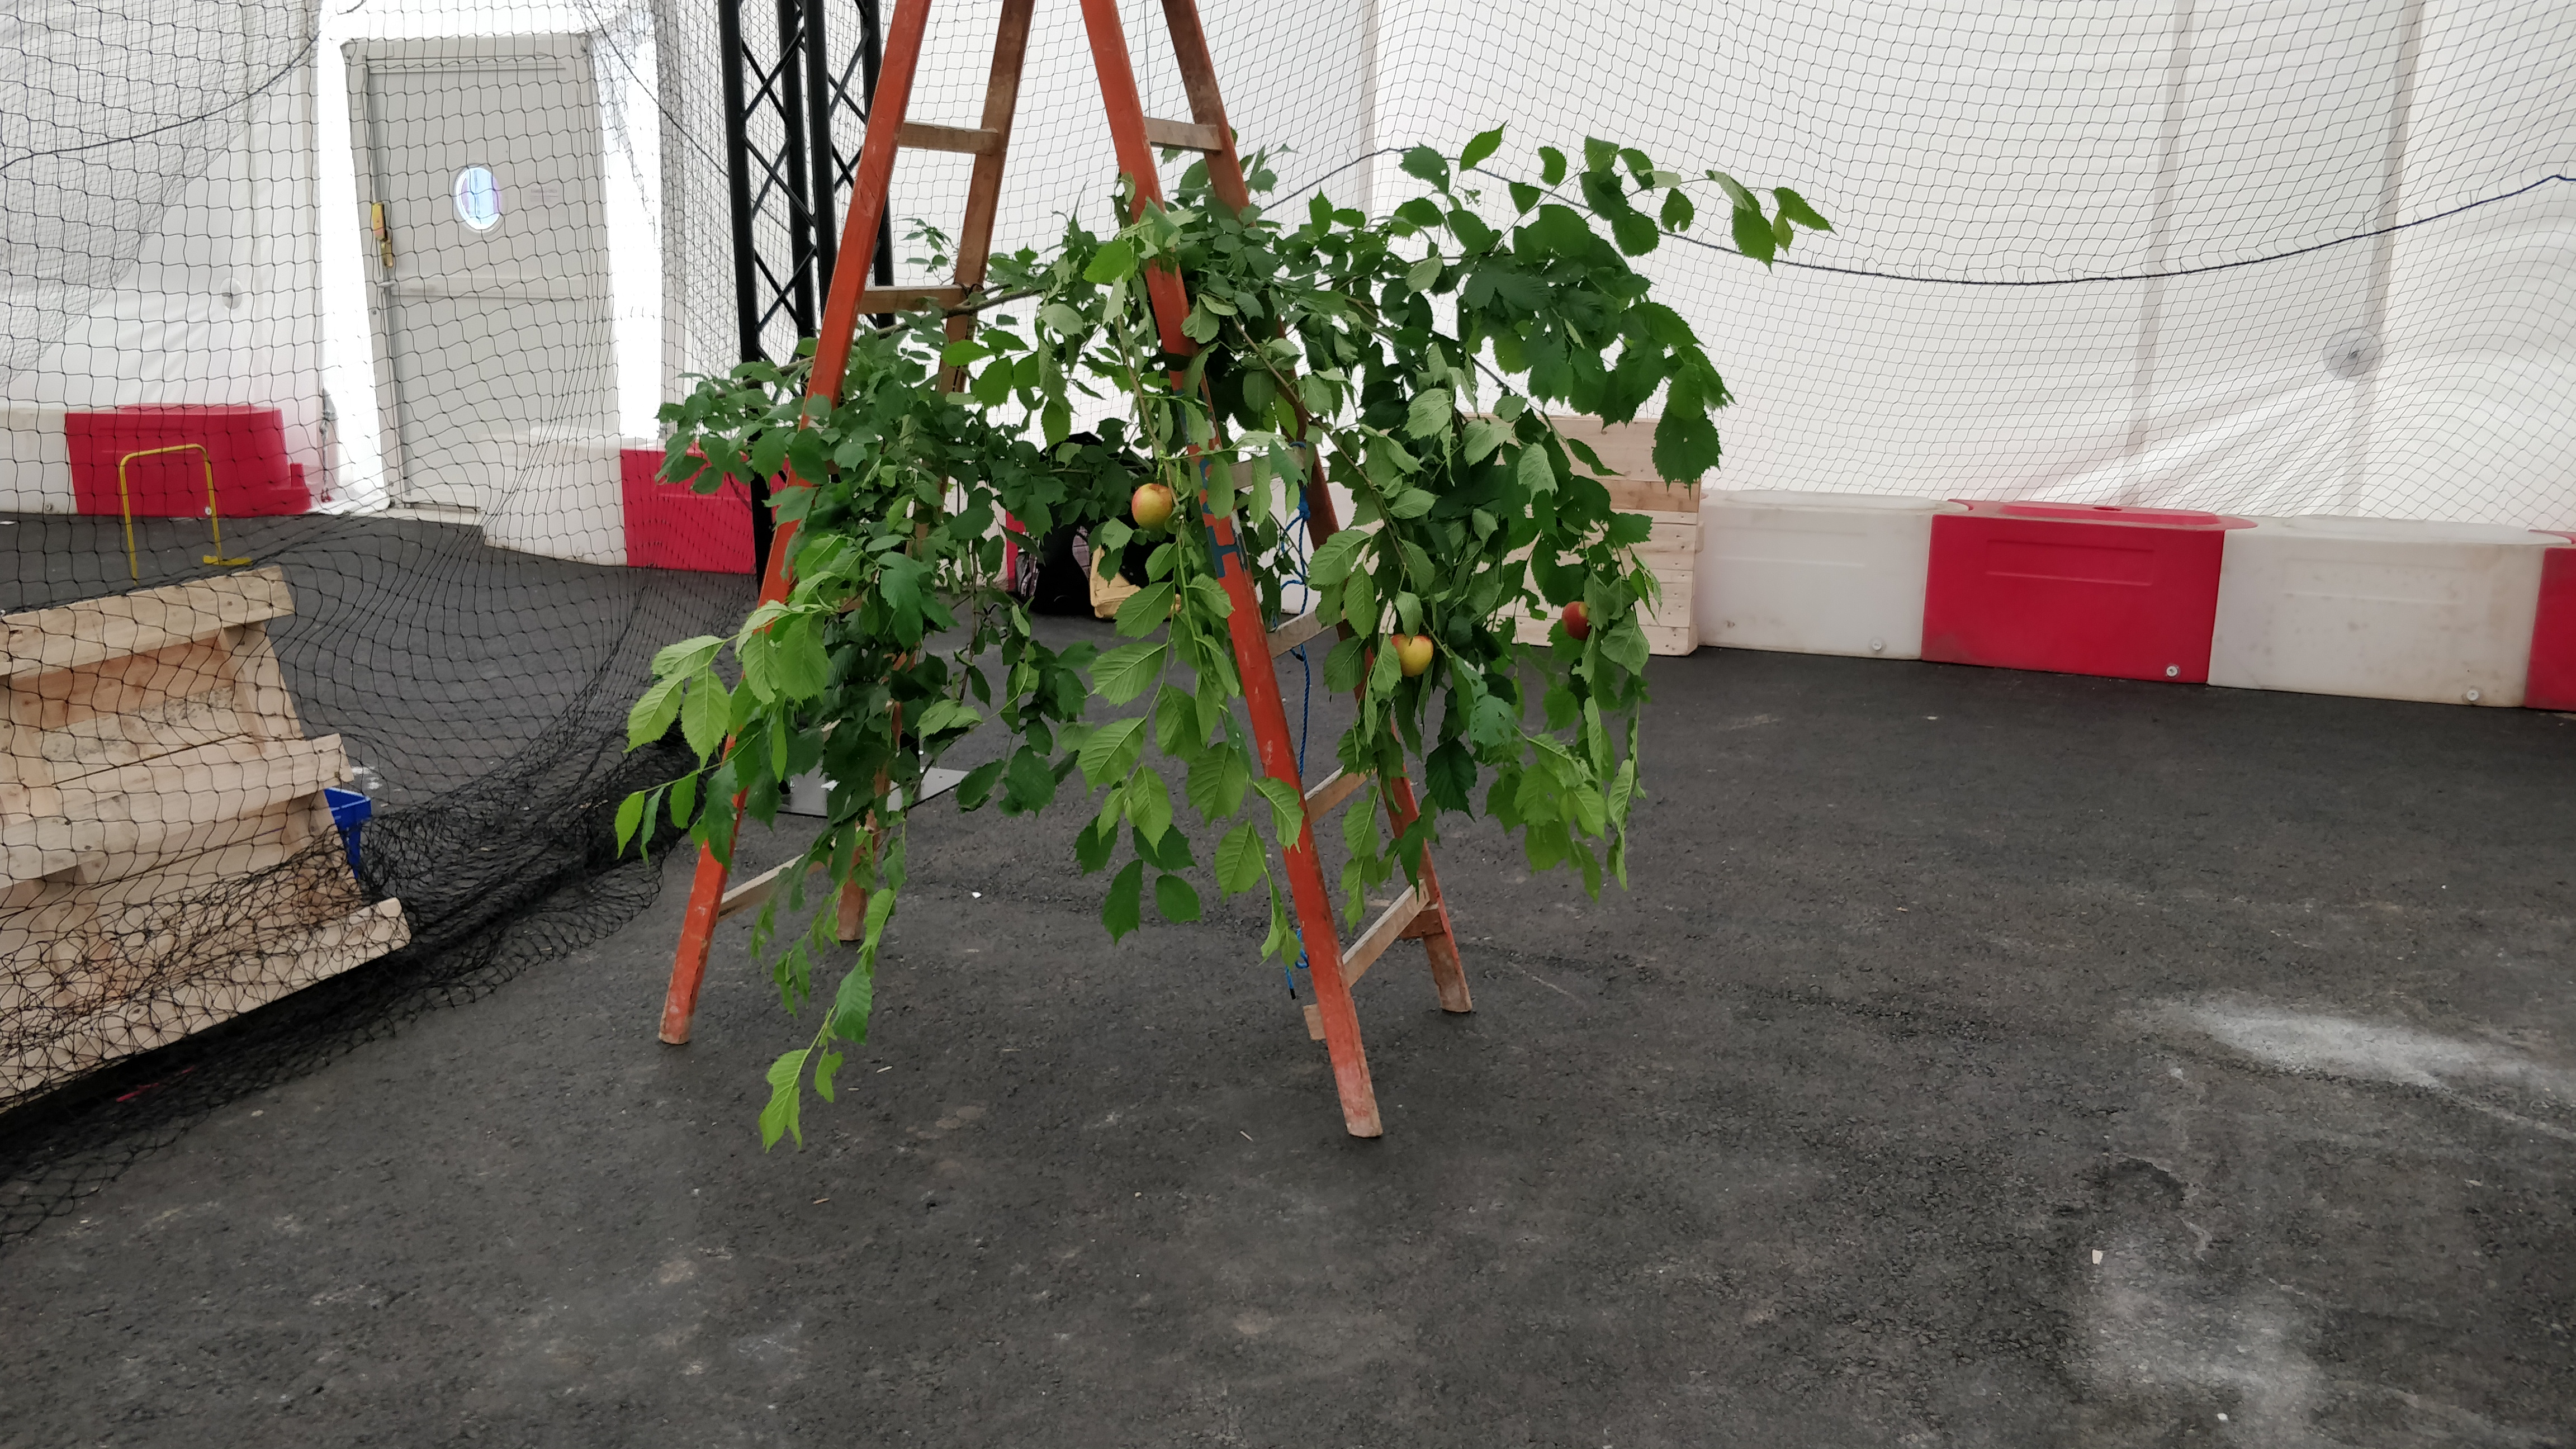apple: (1132, 485, 1175, 531), (1391, 635, 1433, 678), (1562, 602, 1592, 642)
